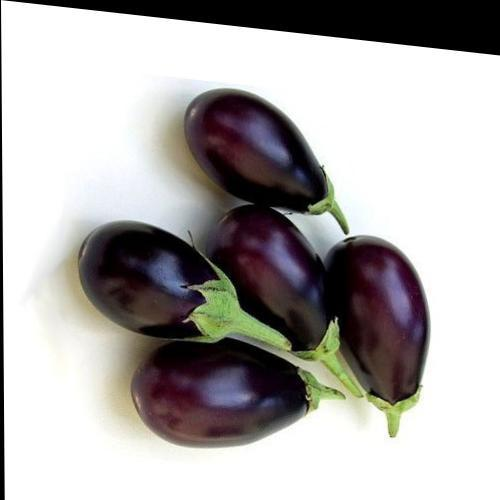eggplant: (86, 98, 440, 470)
